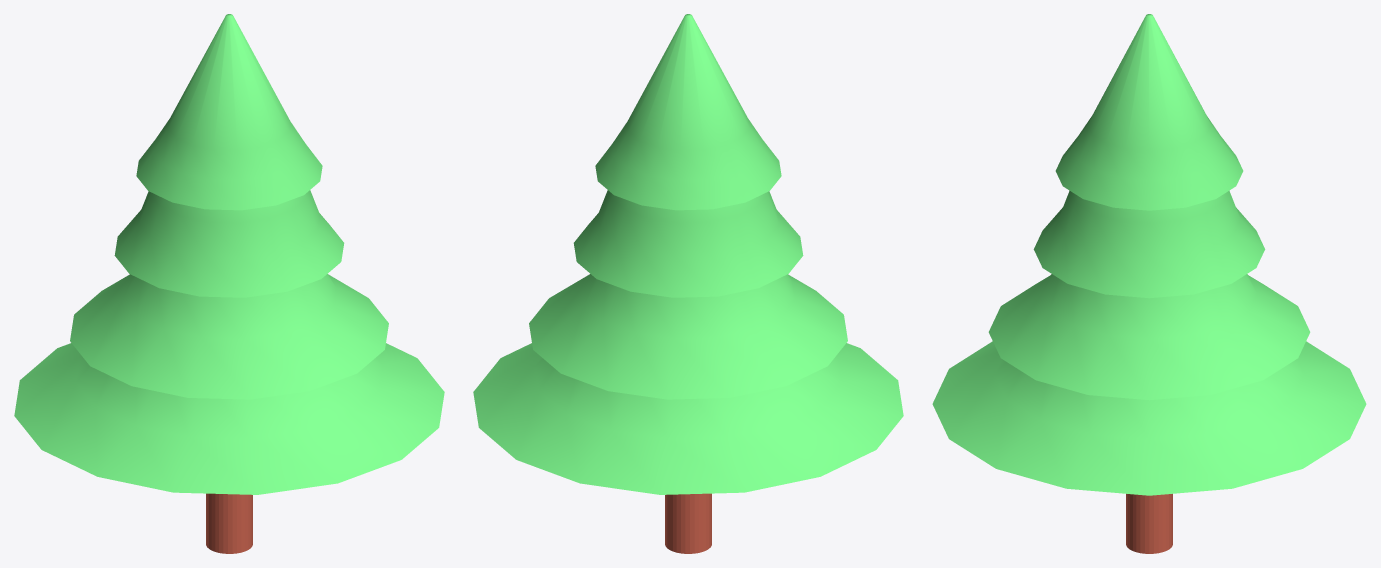
Rendered from PineTree.glb.
3 renders of one model, left to right at view 1: azimuth 30°, elevation 25°; view 2: azimuth 150°, elevation 25°; view 3: azimuth 270°, elevation 25°, orthographic.
Parts seen in each view (by area): view 1: PineTree.002; view 2: PineTree.002; view 3: PineTree.002.
Boxes of the visible parts, x1,y1,x2,y2 form: PineTree.002: (14,14,444,553); PineTree.002: (473,14,903,553); PineTree.002: (932,14,1366,553).
Size of the model in its own units: 6.27 by 8.42 by 6.27.
